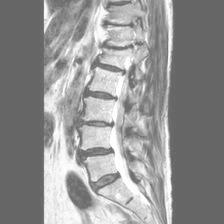hdisc: (86, 170, 125, 192), (83, 86, 119, 106), (100, 13, 136, 32), (88, 60, 128, 74), (81, 143, 116, 159), (100, 38, 134, 54), (78, 116, 116, 130)
